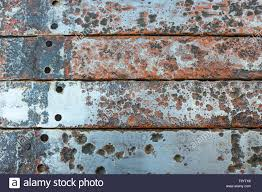rust: (59, 30, 262, 80), (82, 79, 261, 131), (1, 2, 69, 83), (74, 9, 261, 34), (2, 116, 58, 176), (218, 130, 252, 173), (57, 133, 97, 166), (141, 133, 166, 158), (95, 143, 125, 161)
